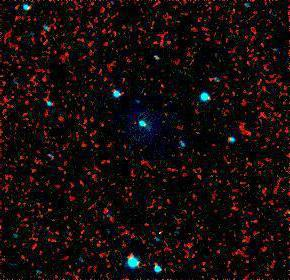star: (137, 219, 167, 249)
